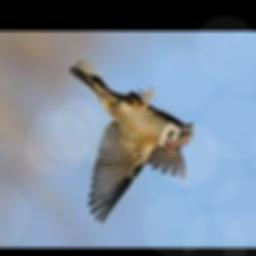Sparrow: (69, 58, 193, 223)
